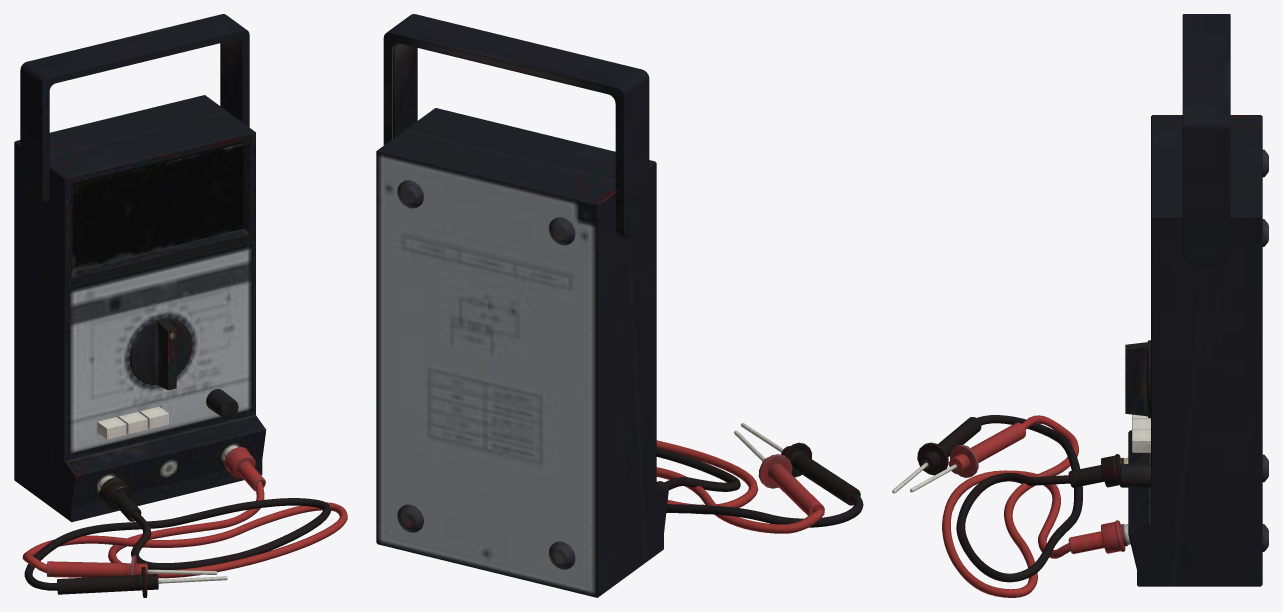
File: multimeter.glb
3 renders of one model, left to right at view 1: azimuth 30°, elevation 25°; view 2: azimuth 150°, elevation 25°; view 3: azimuth 270°, elevation 25°, orthographic. The views are drawn at different scales.
Parts seen in each view (by area): view 1: lP_body.002, Circle.002, lp_handle.002, Circle.001, lp_button01.002, Cylinder.001; view 2: lP_body.002, lp_handle.002, Circle.002; view 3: lP_body.002, Circle.002, lp_handle.002, Circle.001, Cylinder.001, lp_button01.002.
Boxes of the visible parts, x1,y1,x2,y2 form: lP_body.002: (14,95,266,522); Circle.002: (22,445,347,597); lp_handle.002: (20,14,249,207); Circle.001: (129,318,192,390); lp_button01.002: (97,406,168,439); Cylinder.001: (206,389,238,418); lP_body.002: (376,108,668,597); lp_handle.002: (383,14,649,238); Circle.002: (656,423,863,533); lP_body.002: (1128,115,1268,586); Circle.002: (892,415,1130,597); lp_handle.002: (1182,14,1230,266); Circle.001: (1125,340,1150,418); Cylinder.001: (1120,463,1150,487); lp_button01.002: (1132,414,1150,452).
Size of the model in its own units: 0.216 by 0.2786 by 0.2026.
2 materials, 2 textured.
